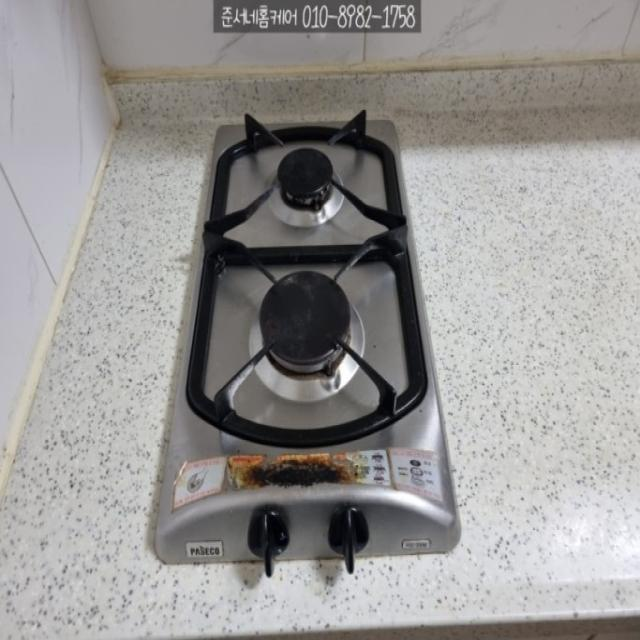knob_OFF: (207, 249, 437, 449), (223, 118, 398, 229)
